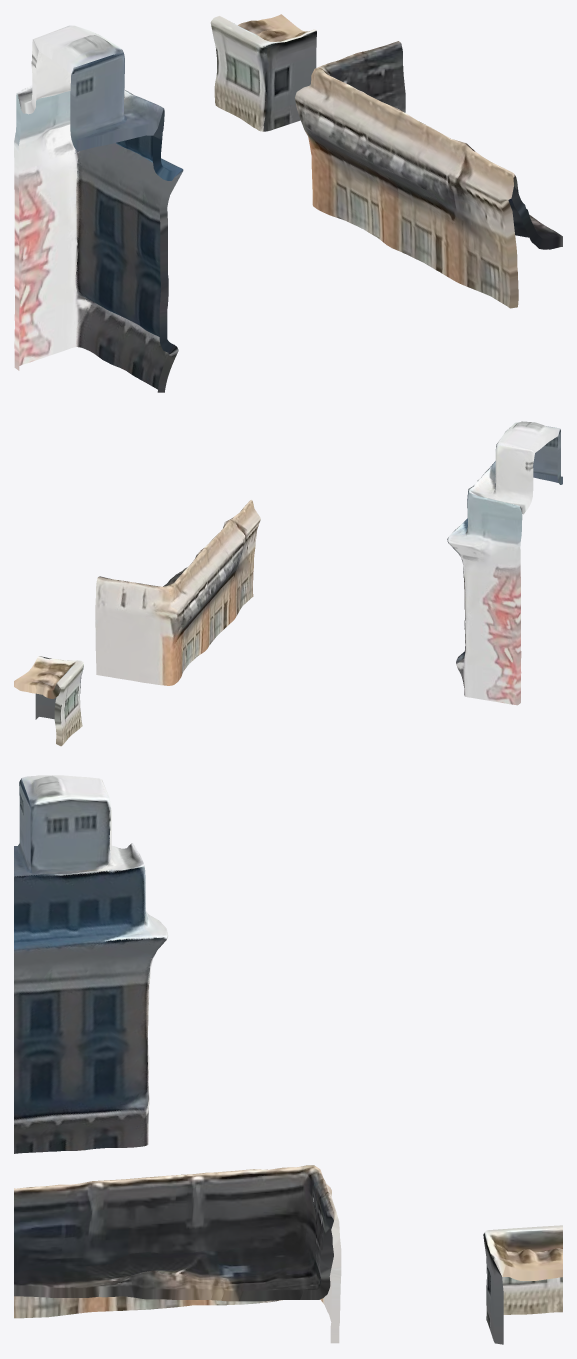
Rendered from z20-167757-405238-h1-yup-uvflip-v3-world.glb.
3 views of the same model, one above another, from view 1: azimuth 30°, elevation 25°; view 2: azimuth 150°, elevation 25°; view 3: azimuth 270°, elevation 25° (orthographic). The views are drawn at different scales.
Bounding box in the file's own units: 30.16 × 21.08 × 30.32.
1 material, 1 textured.
